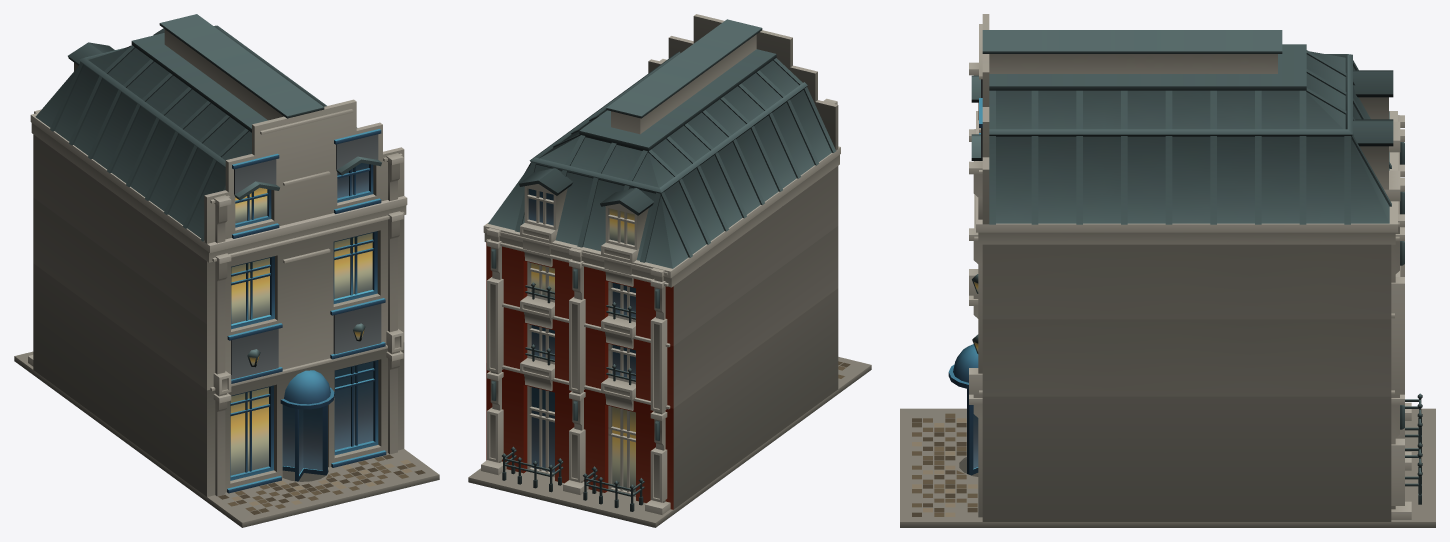
File: Brownstone_5A.fbx
3 renders of one model, left to right at view 1: azimuth 30°, elevation 25°; view 2: azimuth 150°, elevation 25°; view 3: azimuth 270°, elevation 25°, orthographic. The views are drawn at different scales.
Visible parts, largest first — view 1: Brownstone_5A, Brownstone_5A_Window_Lights, Brownstone_5A_Revolving_Door; view 2: Brownstone_5A, Brownstone_5A_Window_Lights; view 3: Brownstone_5A, Brownstone_5A_Revolving_Door.
Boxes of the visible parts, bbox=[...] form: Brownstone_5A: bbox=[14, 14, 439, 527]; Brownstone_5A_Window_Lights: bbox=[230, 187, 372, 475]; Brownstone_5A_Revolving_Door: bbox=[282, 405, 327, 481]; Brownstone_5A: bbox=[468, 14, 871, 527]; Brownstone_5A_Window_Lights: bbox=[531, 208, 635, 492]; Brownstone_5A: bbox=[900, 14, 1435, 527]; Brownstone_5A_Revolving_Door: bbox=[967, 389, 978, 475].
Size of the model in its own units: 12.09 by 21.3 by 24.
